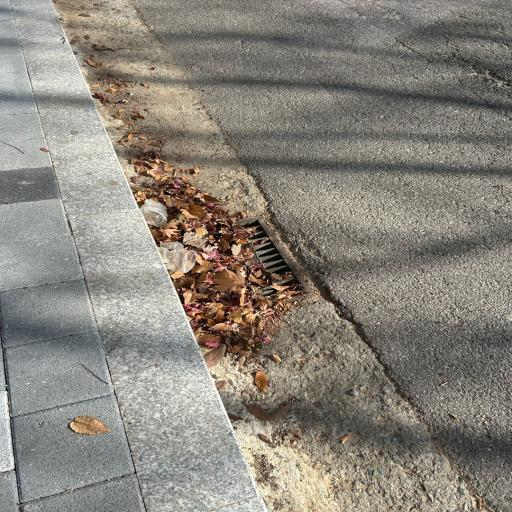debris: (161, 224, 302, 318)
drain: (162, 216, 314, 318)
